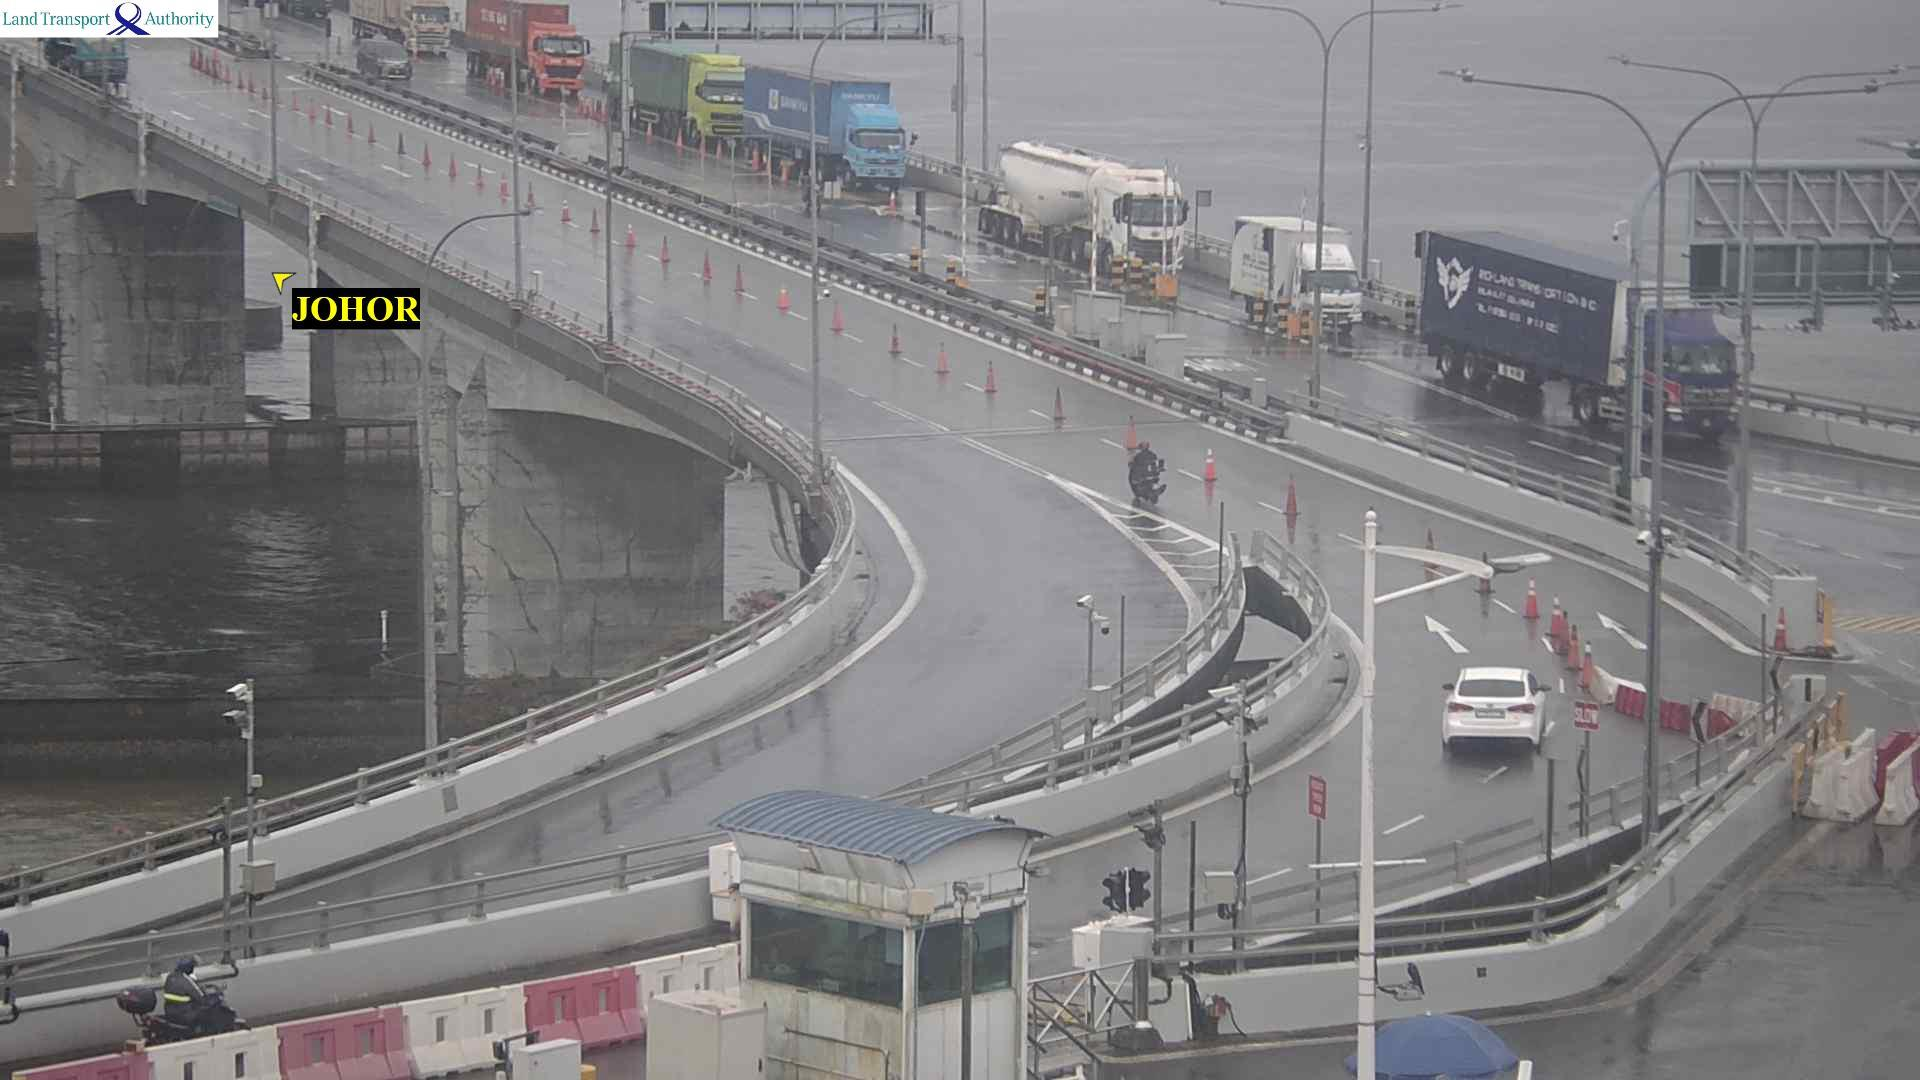vehicle-causeway-singapore: (1441, 665, 1551, 765)
vehicle-secondlink-johor: (123, 956, 255, 1042), (1127, 442, 1174, 509)
vehicle-secondlink-singapore: (1419, 227, 1737, 436), (988, 137, 1183, 278), (749, 65, 915, 195), (1236, 216, 1360, 338), (608, 38, 745, 137), (467, 1, 582, 94), (349, 0, 451, 54), (42, 38, 128, 86), (357, 36, 411, 79)
